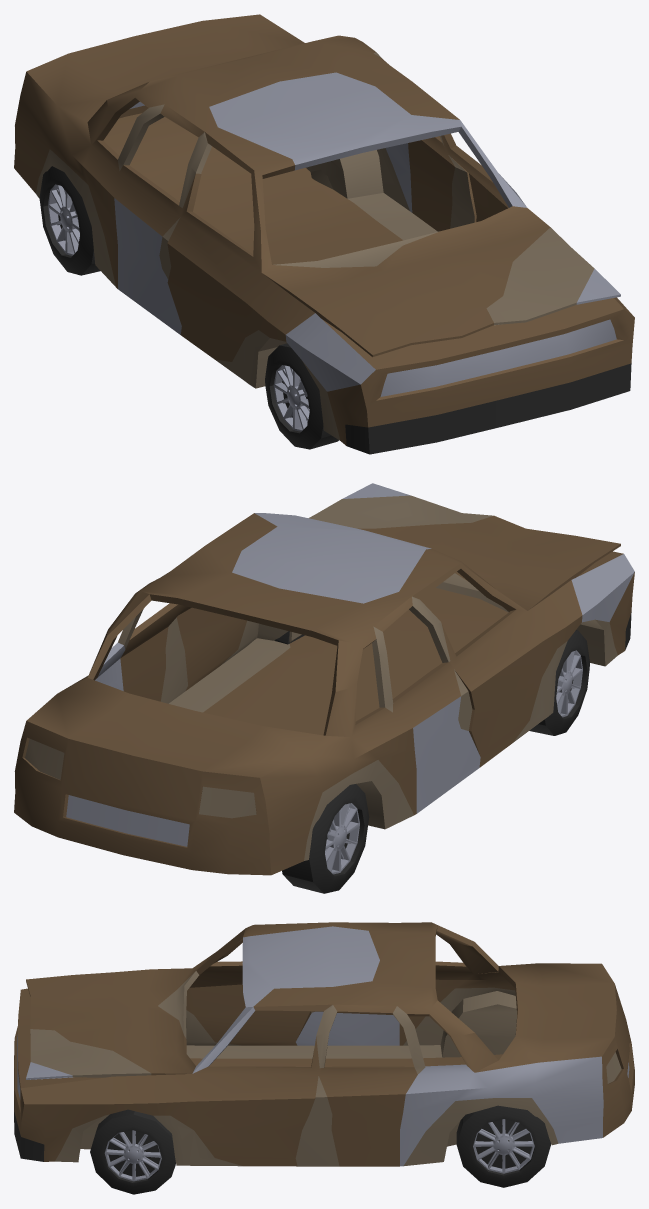
The model's file is SM_Car1.fbx.
3 views of the same model, one above another, from view 1: azimuth 30°, elevation 25°; view 2: azimuth 150°, elevation 25°; view 3: azimuth 270°, elevation 25° (orthographic). The views are drawn at different scales.
Parts seen in each view (by area): view 1: Debris_BrokenCar; view 2: Debris_BrokenCar; view 3: Debris_BrokenCar.
Part boxes in pixels (<box>): Debris_BrokenCar: <box>14,14,634,454</box>; Debris_BrokenCar: <box>14,483,634,893</box>; Debris_BrokenCar: <box>14,922,634,1194</box>.
Size of the model in its own units: 253 by 176 by 549.
